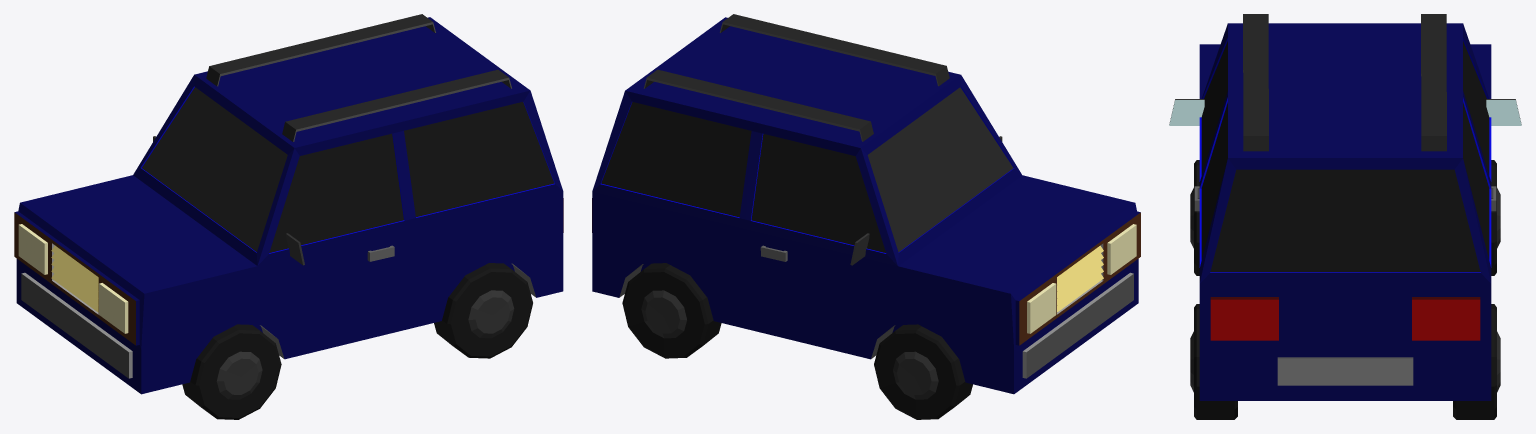
The model's file is suvCar.glb.
The picture shows the model from 3 angles, left to right: view 1: azimuth 30°, elevation 25°; view 2: azimuth 150°, elevation 25°; view 3: azimuth 270°, elevation 25°; orthographic projection. The views are drawn at different scales.
Parts seen in each view (by area): view 1: SUV; view 2: SUV; view 3: SUV.
Boxes of the visible parts, x1,y1,x2,y2 form: SUV: (14,14,563,419); SUV: (592,14,1140,419); SUV: (1169,14,1521,419).
Bounding box in the file's own units: 3.02 × 1.71 × 1.81.
1 material, 1 textured.
